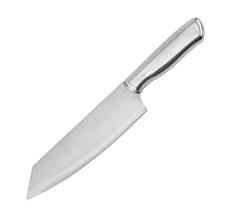Knife: (25, 16, 204, 200)
